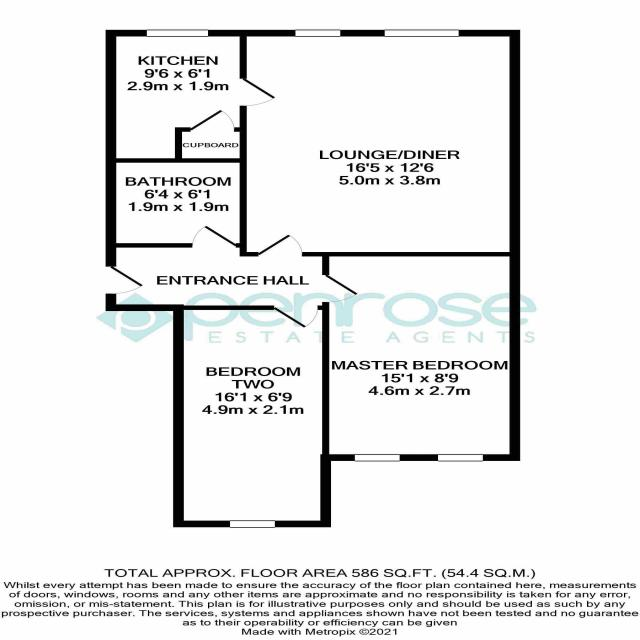DOOR: (321, 274, 360, 304), (238, 78, 278, 107), (105, 266, 145, 295), (257, 233, 305, 257), (273, 305, 321, 329), (189, 109, 236, 132), (191, 225, 238, 248)
ROOM: (238, 29, 521, 257), (320, 252, 521, 462), (172, 304, 331, 527), (105, 30, 276, 163)
WINDOW: (383, 29, 460, 38), (145, 29, 209, 38), (294, 29, 342, 38), (353, 453, 401, 462), (229, 520, 276, 528), (437, 454, 484, 462)
